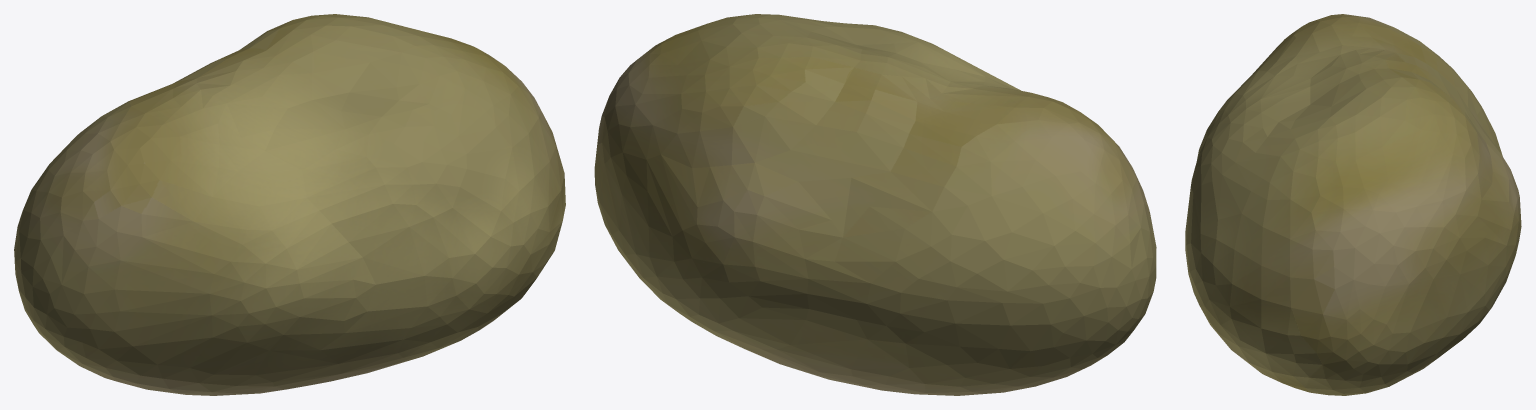
File: potato.fbx
The picture shows the model from 3 angles, left to right: view 1: azimuth 30°, elevation 25°; view 2: azimuth 150°, elevation 25°; view 3: azimuth 270°, elevation 25°; orthographic projection. The views are drawn at different scales.
Visible parts, largest first — view 1: Sphere; view 2: Sphere; view 3: Sphere.
Boxes of the visible parts, x1,y1,x2,y2 form: Sphere: [14, 14, 565, 395]; Sphere: [594, 14, 1156, 395]; Sphere: [1185, 14, 1521, 395].
Bounding box in the file's own units: 403 × 234 × 248.
1 material, 1 textured.
